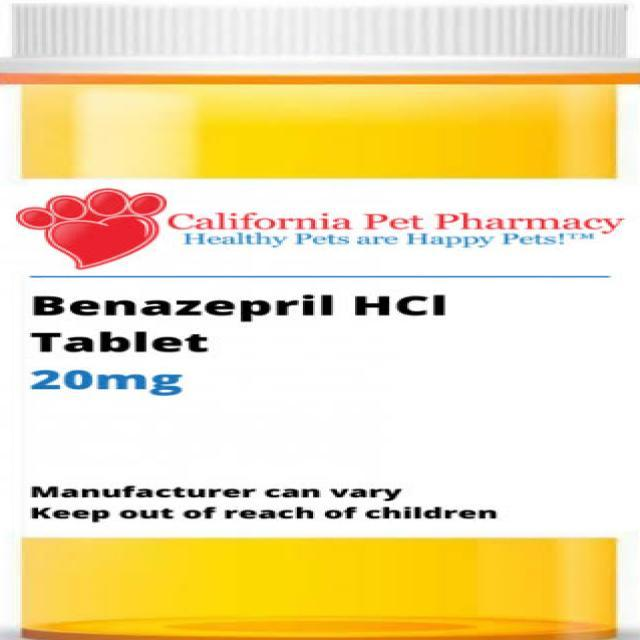drug-name: (167, 208, 619, 250)
